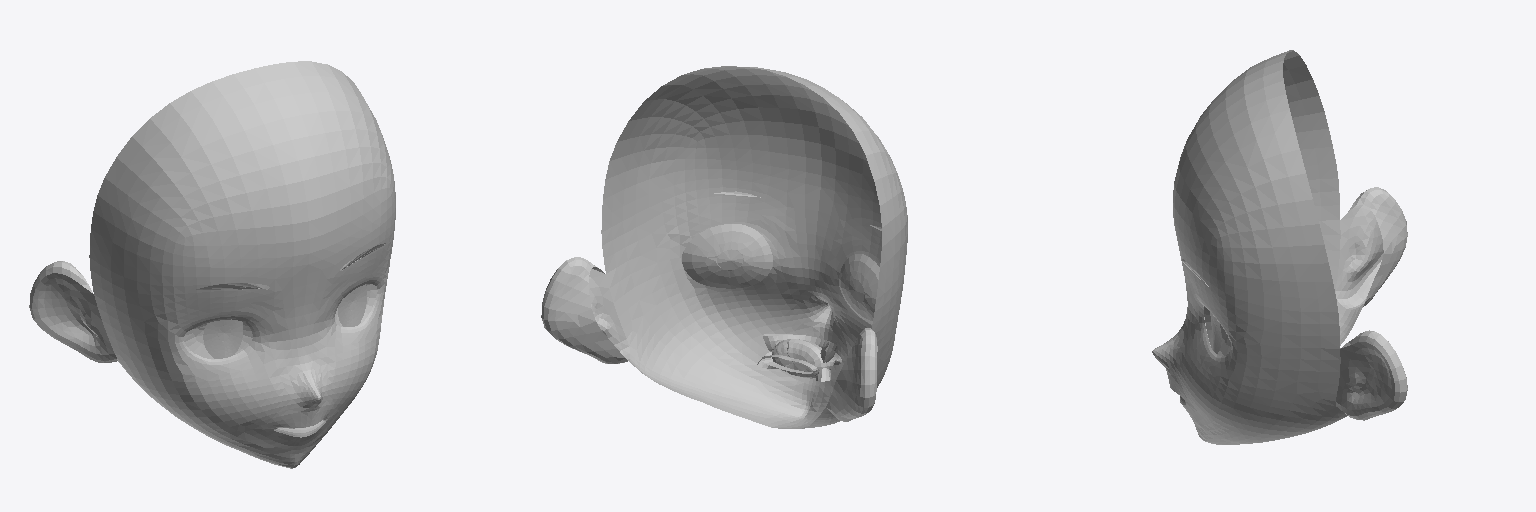
Rendered from mouthPressRight.obj.
The picture shows the model from 3 angles: view 1: azimuth 30°, elevation 25°; view 2: azimuth 150°, elevation 25°; view 3: azimuth 270°, elevation 25°; orthographic projection.
Parts seen in each view (by area): view 1: Face; view 2: Face; view 3: Face.
Boxes of the visible parts, box(x1,y1,x2,y2) form: Face: box(29, 61, 395, 468); Face: box(541, 66, 907, 428); Face: box(1152, 50, 1407, 444).
Bounding box in the file's own units: 0.2176 × 0.2333 × 0.1449.